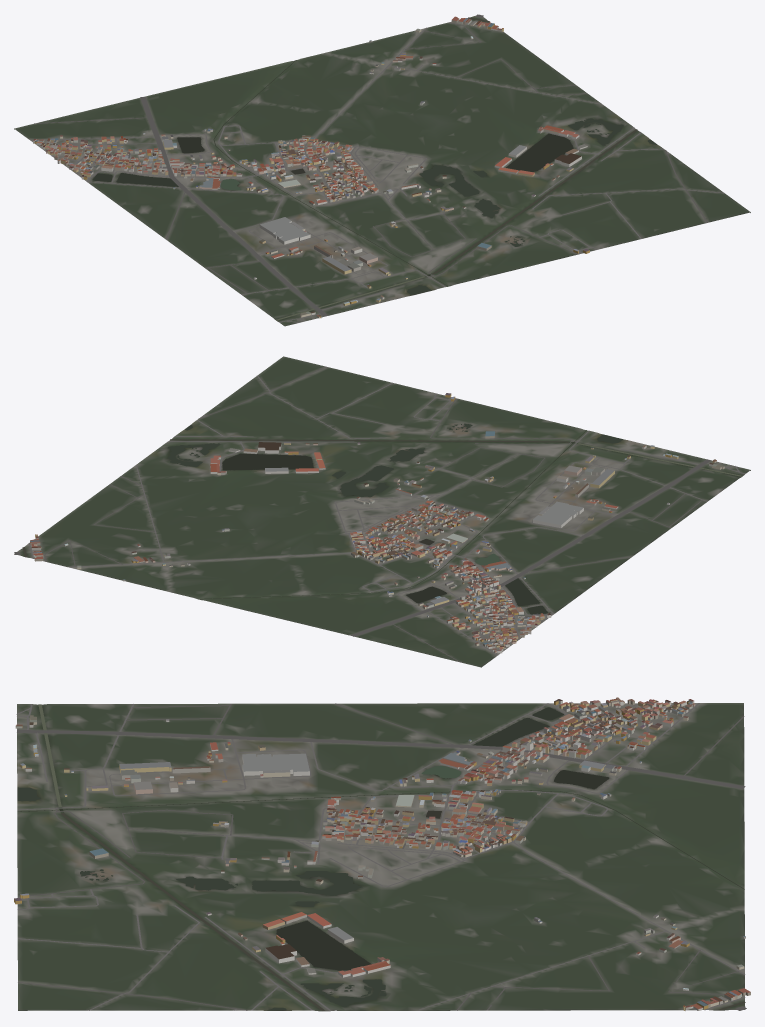
3 renders of one model, top to bottom at view 1: azimuth 30°, elevation 25°; view 2: azimuth 150°, elevation 25°; view 3: azimuth 270°, elevation 25°, orthographic. The views are drawn at different scales.
Visible parts, largest first — view 1: ground, buildings, roads, water; view 2: ground, buildings, roads, water; view 3: ground, buildings, roads, water.
Part boxes in pixels (left/top/right/bottom): ground: left=14, top=15, right=750, bottom=326; buildings: left=33, top=16, right=589, bottom=318; roads: left=30, top=14, right=724, bottom=322; water: left=92, top=17, right=657, bottom=320; ground: left=14, top=356, right=750, bottom=667; buildings: left=30, top=393, right=724, bottom=653; roads: left=14, top=366, right=745, bottom=662; water: left=22, top=423, right=742, bottom=614; ground: left=17, top=703, right=745, bottom=1011; buildings: left=14, top=697, right=750, bottom=1010; roads: left=16, top=703, right=746, bottom=1010; water: left=17, top=704, right=745, bottom=1011.
Size of the model in its own units: 1414 by 18.92 by 1421.
